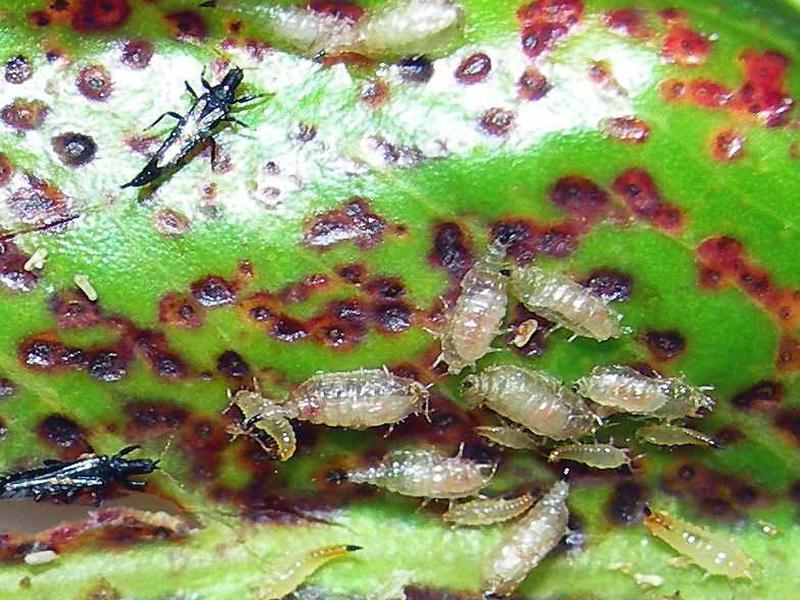Thrips: (225, 227, 719, 586), (8, 388, 173, 568), (107, 36, 247, 193)
